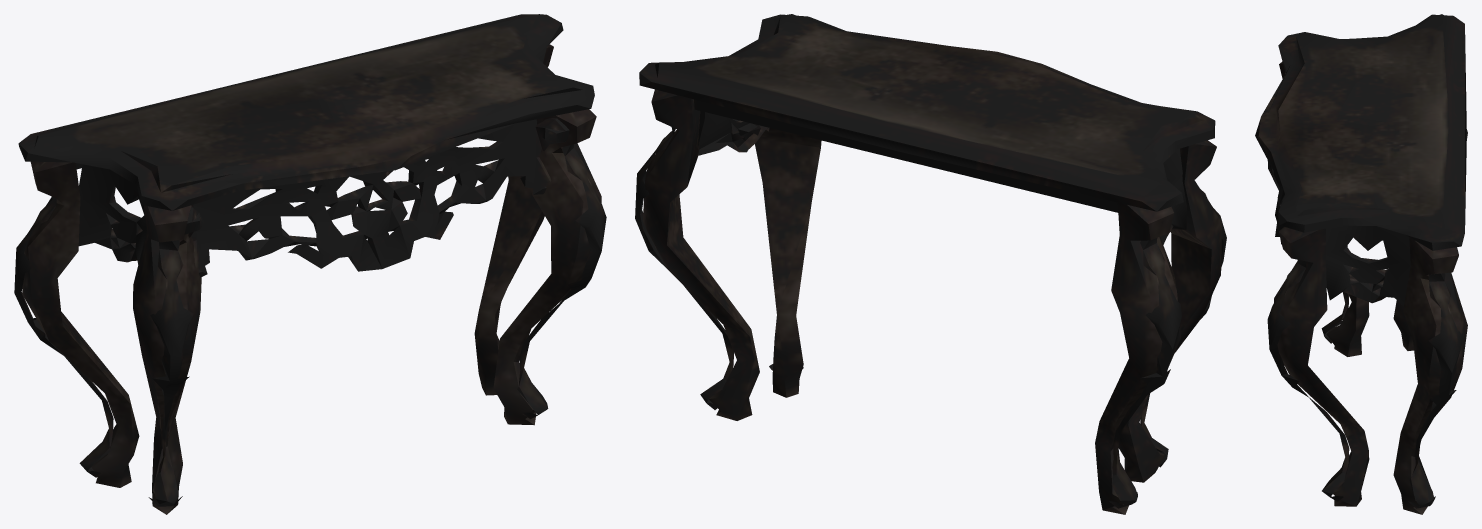
Rendered from ClassicConsole_01.fbx.
3 views of the same model, side by side, from view 1: azimuth 30°, elevation 25°; view 2: azimuth 150°, elevation 25°; view 3: azimuth 270°, elevation 25° (orthographic). The views are drawn at different scales.
Parts seen in each view (by area): view 1: ClassicConsole_01; view 2: ClassicConsole_01; view 3: ClassicConsole_01.
Part boxes in pixels (x1=…): ClassicConsole_01: x1=14, y1=14, x2=606, y2=514; ClassicConsole_01: x1=635, y1=14, x2=1226, y2=514; ClassicConsole_01: x1=1255, y1=14, x2=1467, y2=514.
Size of the model in its own units: 1.54 by 0.9501 by 0.5979.
